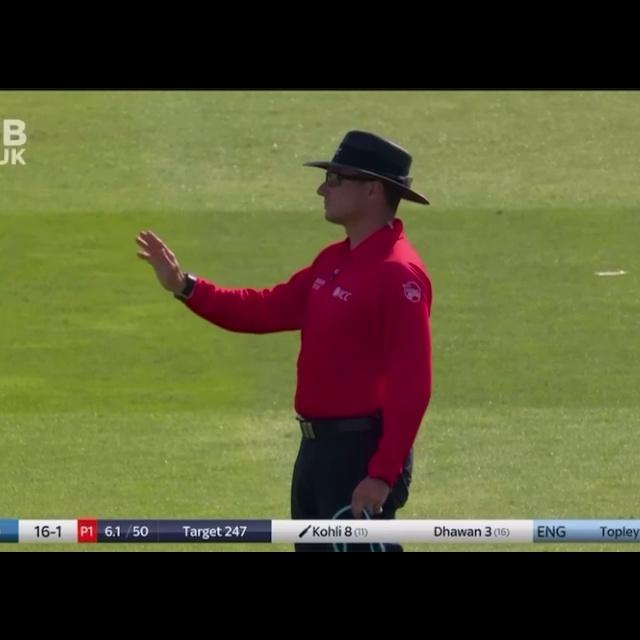umpire: (133, 118, 430, 545)
